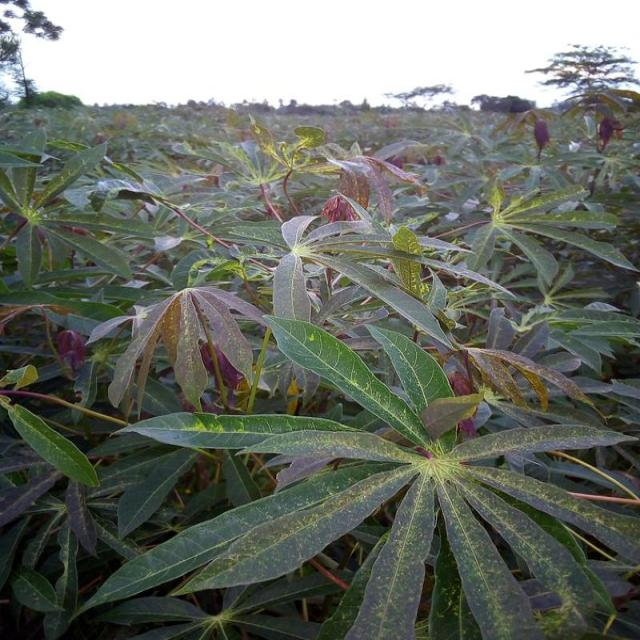cassava leaf: (86, 284, 268, 416), (6, 400, 99, 489)
